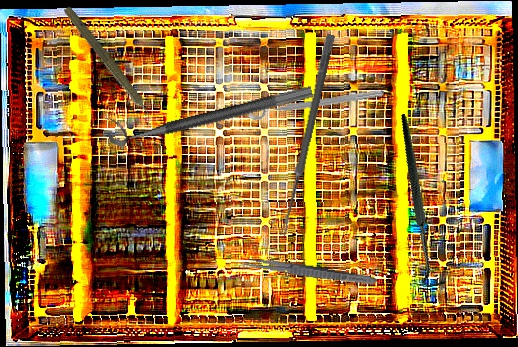Dressing Forceps: (240, 255, 379, 288)
Fixation Ring: (104, 68, 314, 149), (245, 78, 385, 122)
Handpiece: (58, 3, 162, 130)
Hook Surgical: (351, 113, 494, 292)
Surgical Spoon: (278, 33, 336, 237)
